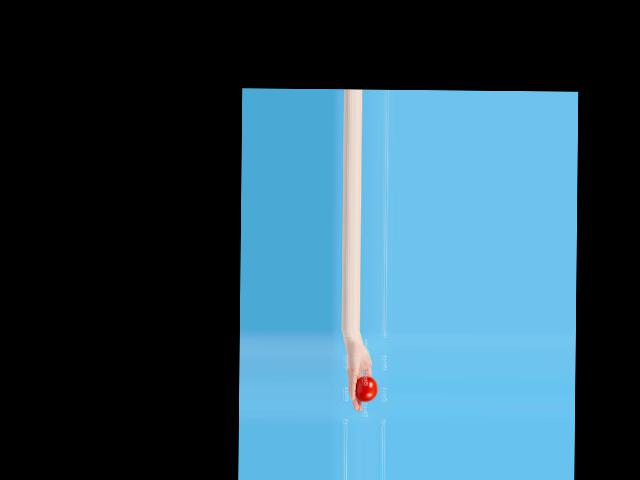tomato: (355, 375, 377, 401)
